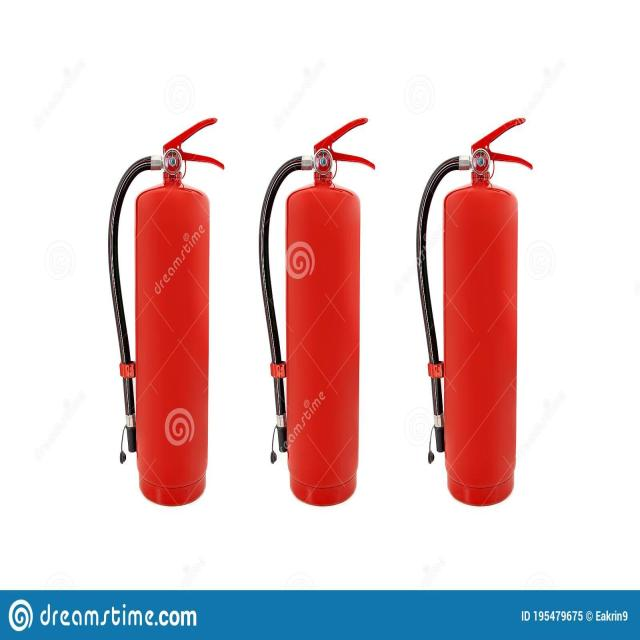fire_extinguisher: (256, 114, 379, 508), (412, 115, 534, 511), (105, 114, 227, 508)
